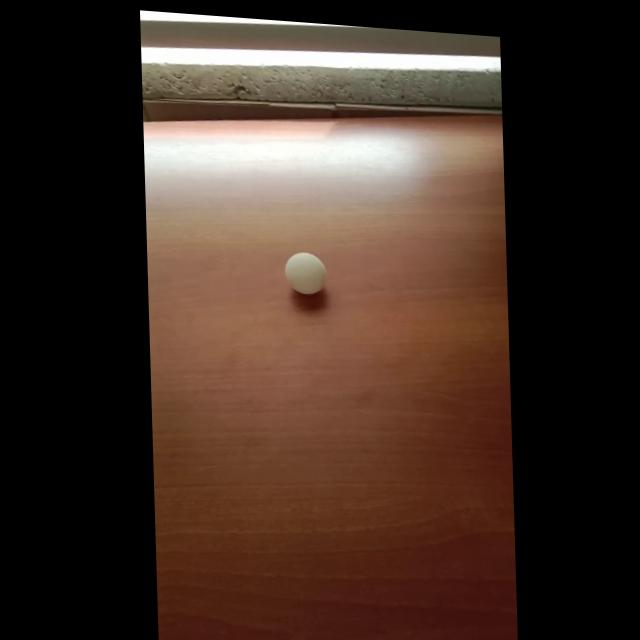white ball: (284, 250, 327, 296)
